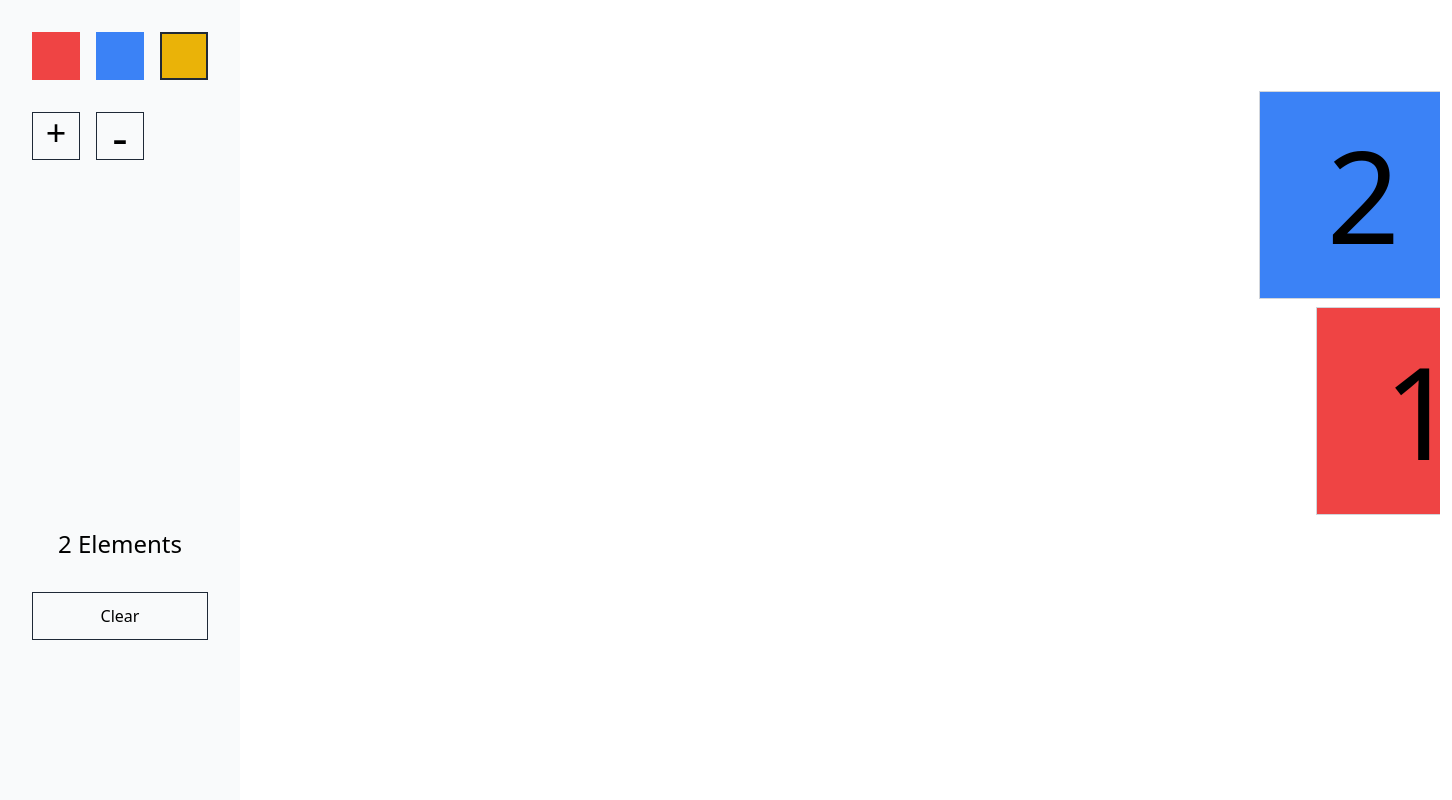
Test: Draw colorful boxes › Clear draw pad
Click the text with test id "clear-all-button" at [120, 616], box x1=32 y1=592 x2=208 y2=640
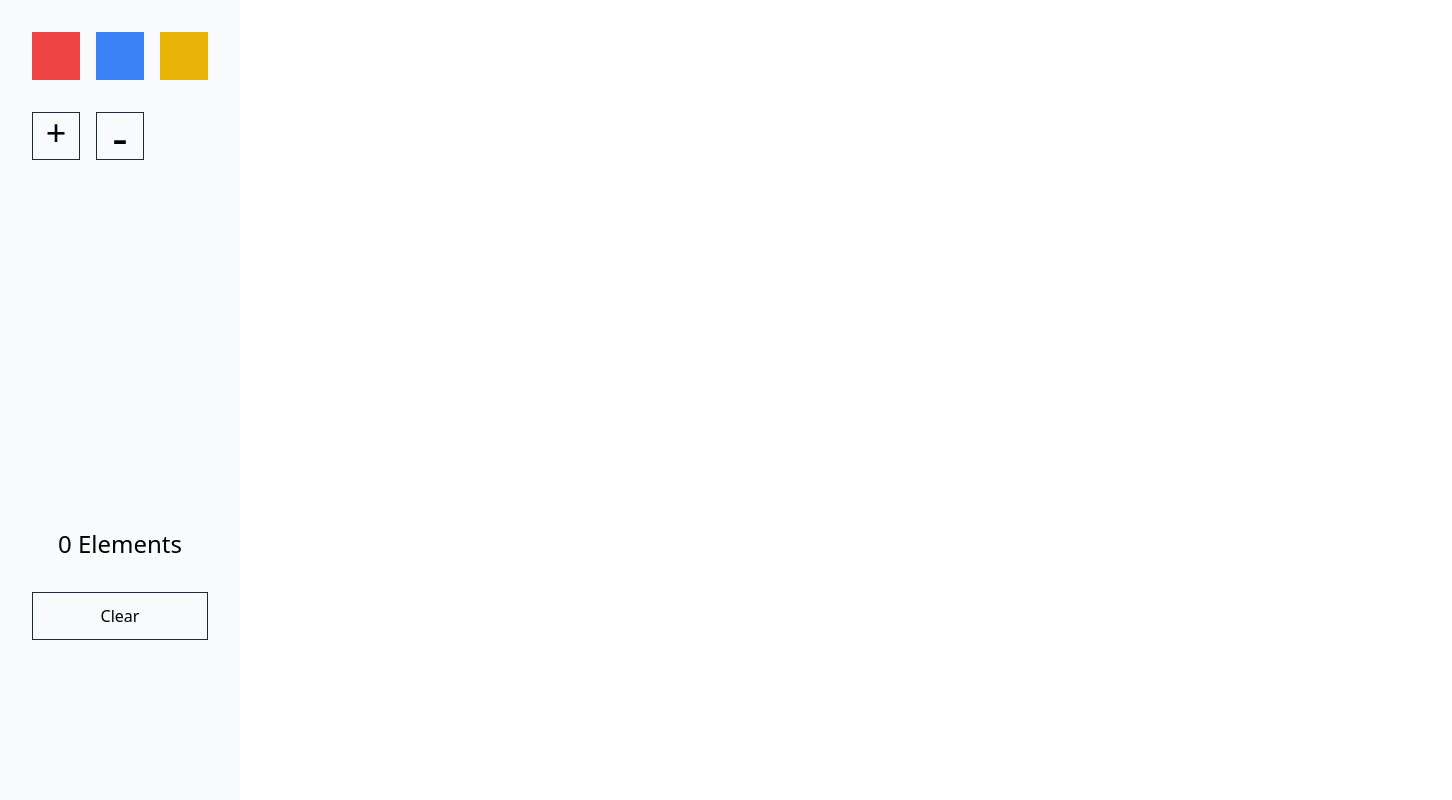
Expected: the element with test id "color-box" is gone
Expected: the element with test id "count-selected-elements" reads "0 Elements", x1=58 y1=528 x2=182 y2=560
